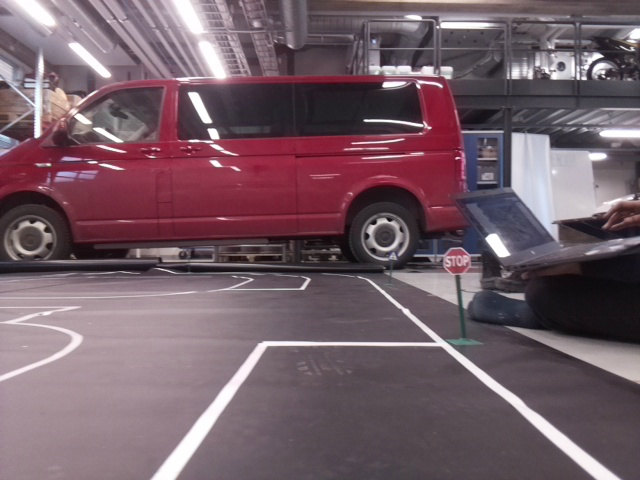Stop: (441, 247, 470, 276)
